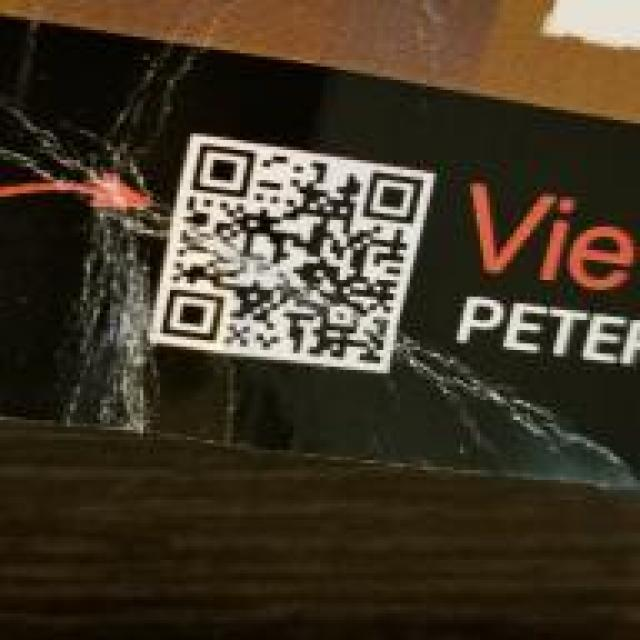qr_code: (161, 144, 423, 365)
